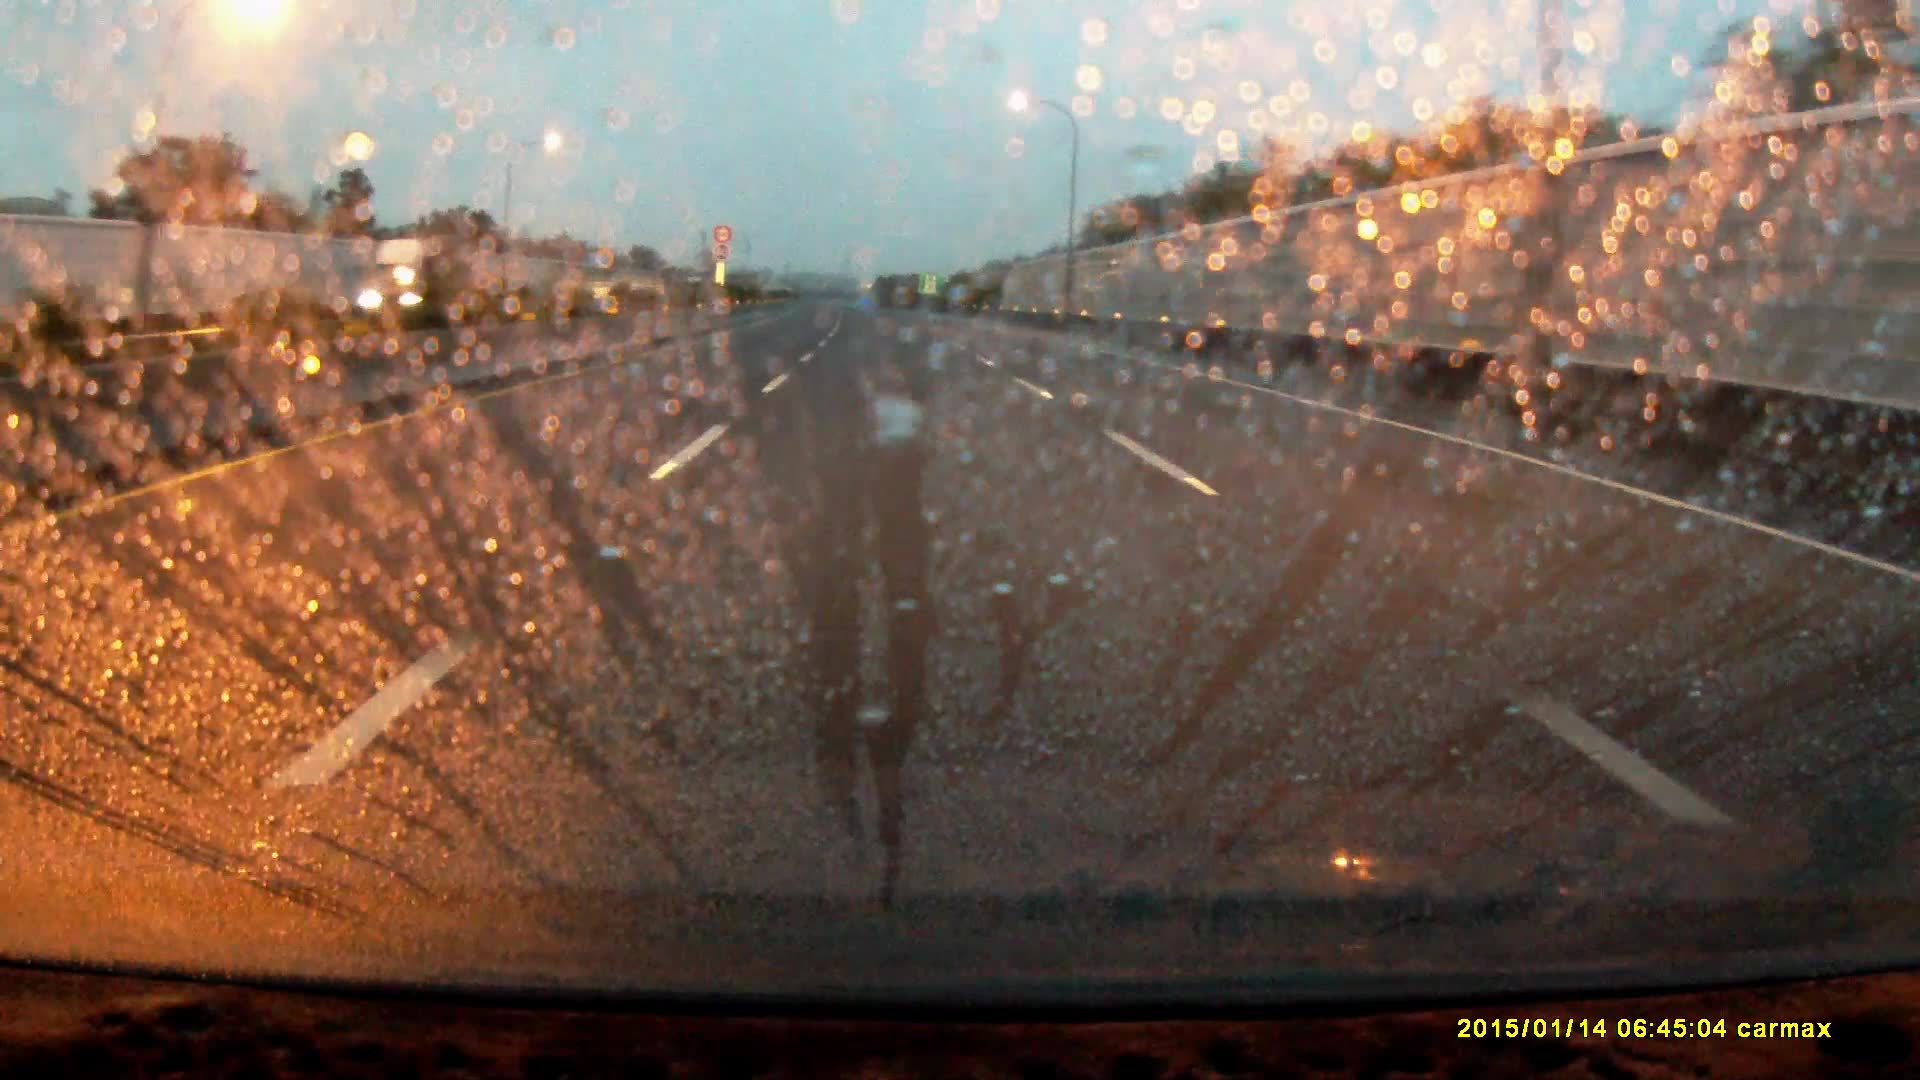vehicle: (356, 231, 477, 319)
